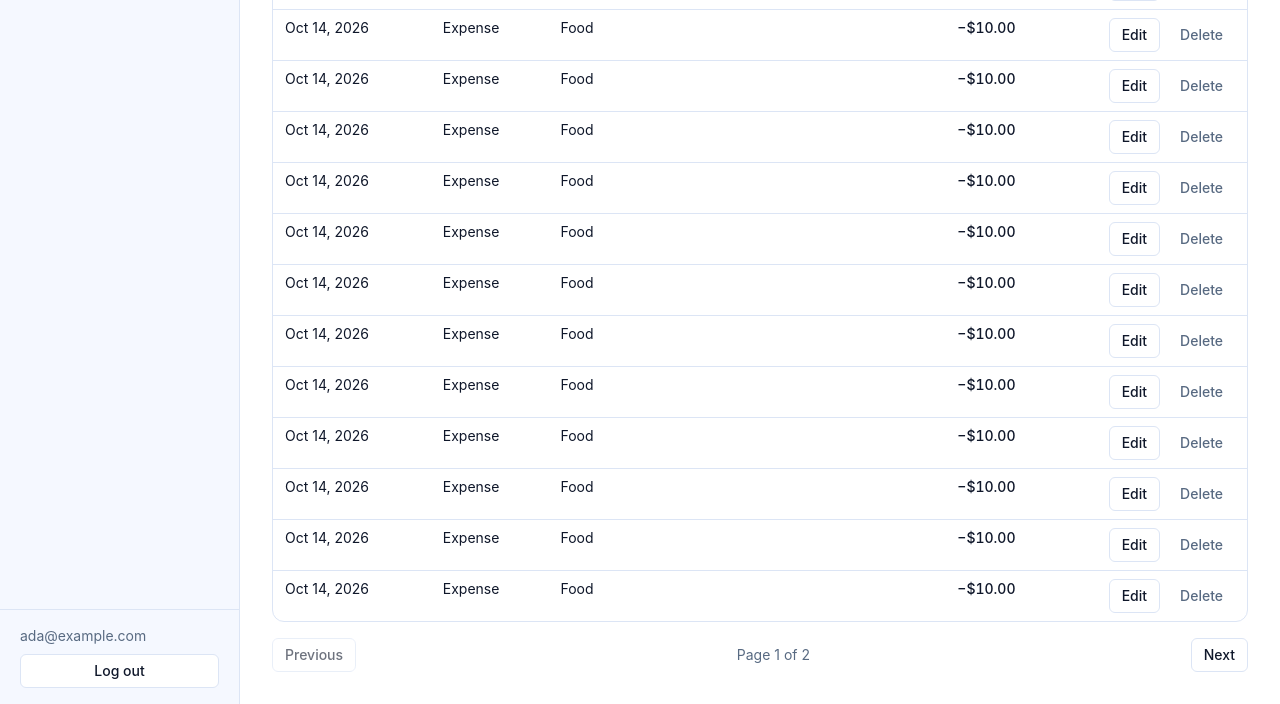
Test case: Delete transaction › shows the previous page after deleting the only row of the last page
This screenshot has width=1280, height=704.
(page scrolled)
Step 1. Click the button "Next" → (1219, 655), box 1191,638 -> 1248,672
(page scrolled)
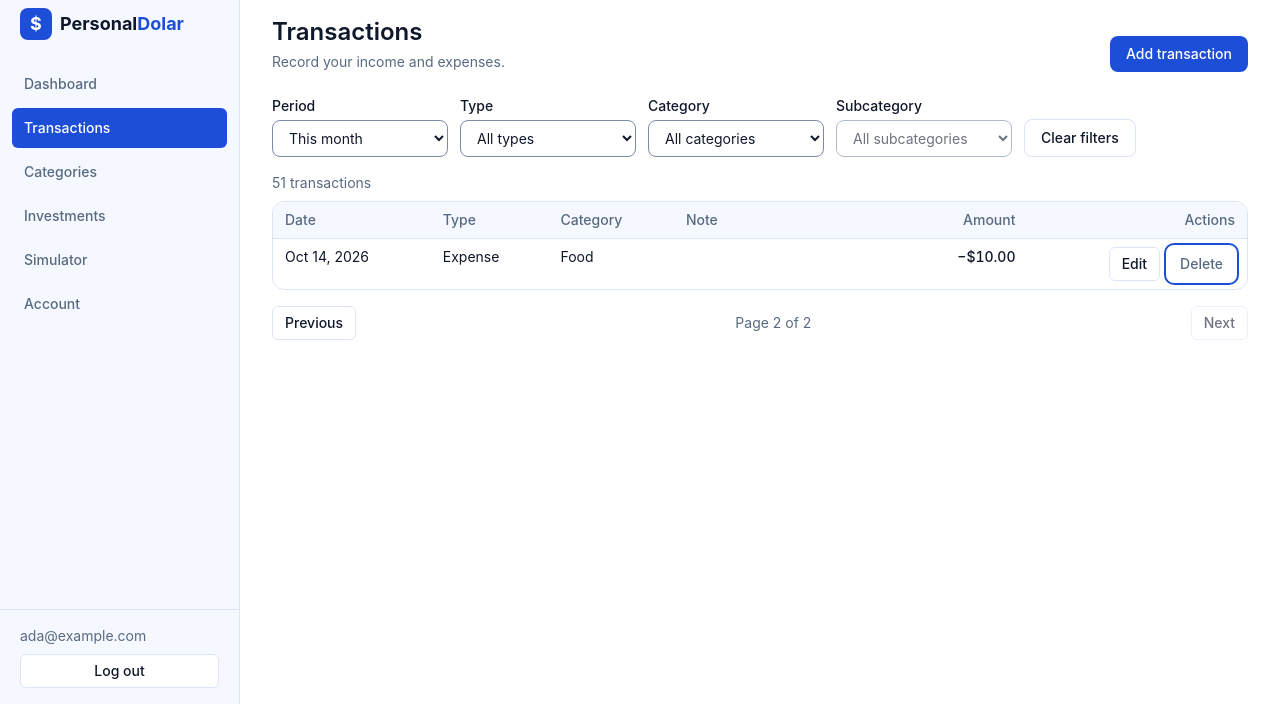
Step 2. Click the button "Delete" → (1202, 264), box 1168,247 -> 1235,281
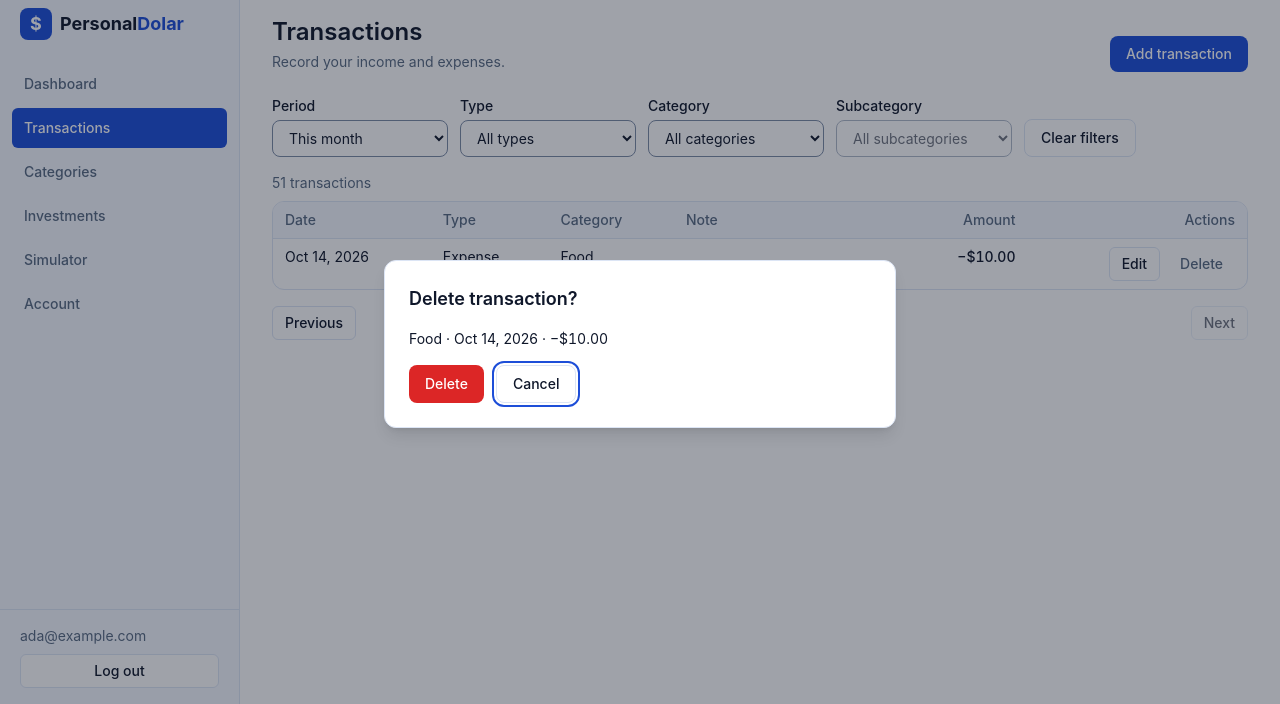
Step 3. Click the button "Delete" → (446, 384), box 409,365 -> 484,403
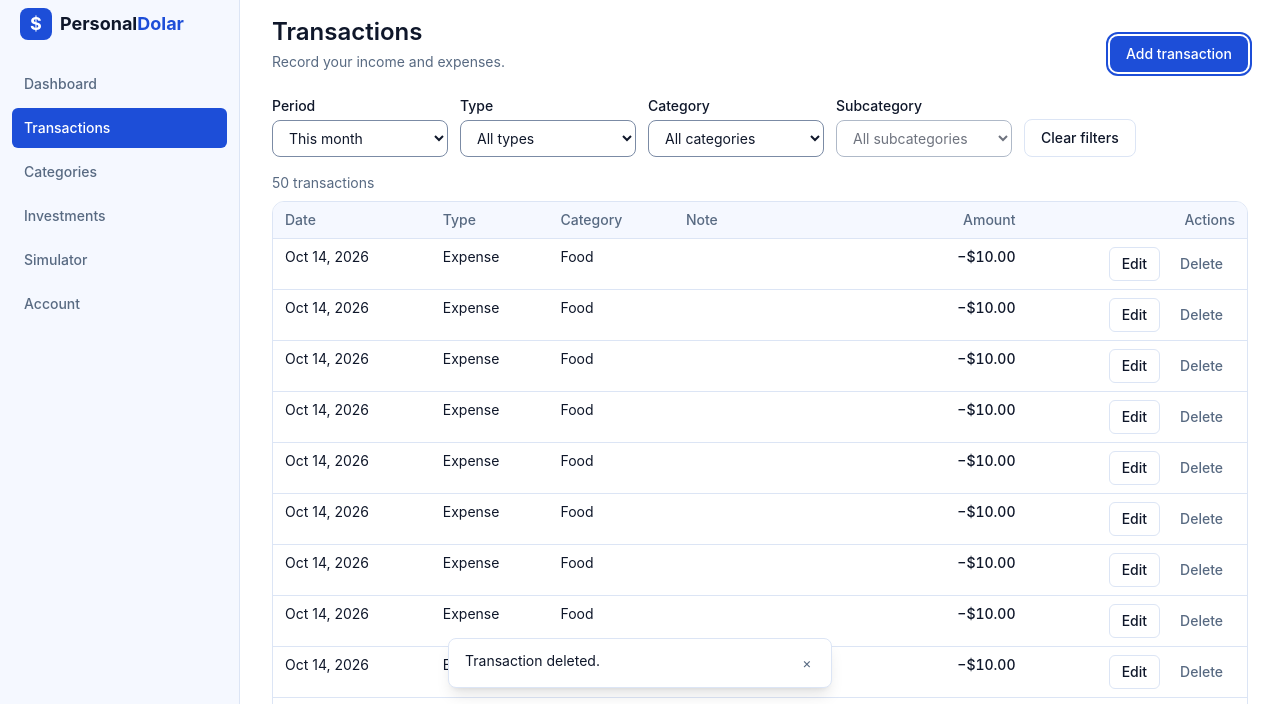
Now the text "Transaction deleted." is shown, box 465,652 -> 600,669
Now the text "50 transactions" is shown, box 272,174 -> 374,191
Now the navigation bar "Pagination" is gone
